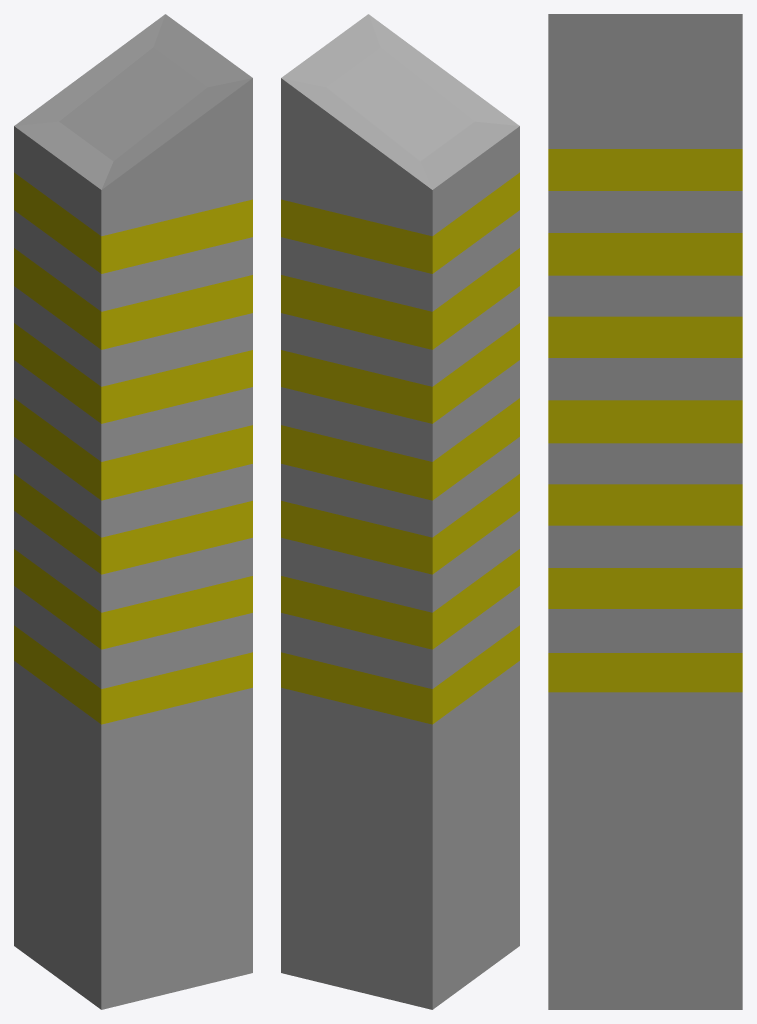
Rendered from building_2.fbx.
3 views of the same model, side by side, from view 1: azimuth 30°, elevation 25°; view 2: azimuth 150°, elevation 25°; view 3: azimuth 270°, elevation 25° (orthographic). The views are drawn at different scales.
Parts seen in each view (by area): view 1: pCube1; view 2: pCube1; view 3: pCube1.
Part boxes in pixels (left/top/right/bottom): pCube1: left=14, top=14, right=252, bottom=1009; pCube1: left=281, top=14, right=519, bottom=1009; pCube1: left=548, top=14, right=742, bottom=1009.
Bounding box in the file's own units: 12.63 × 71.31 × 12.63.
